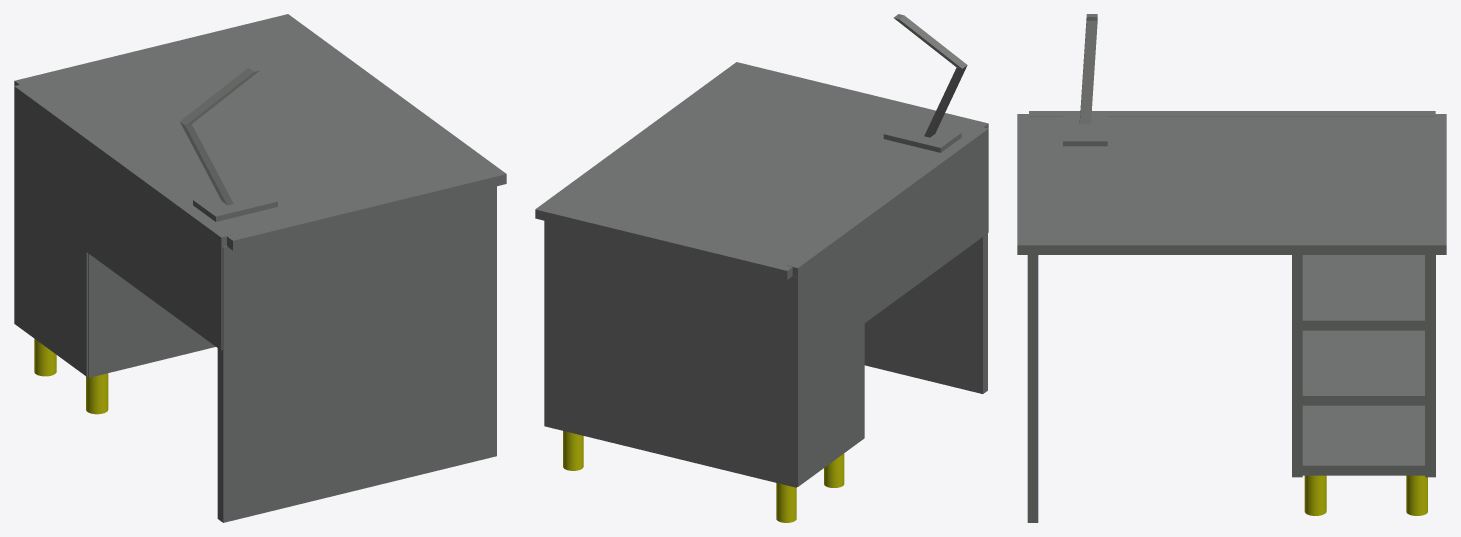
File: desk.obj
3 renders of one model, left to right at view 1: azimuth 30°, elevation 25°; view 2: azimuth 150°, elevation 25°; view 3: azimuth 270°, elevation 25°, orthographic. The views are drawn at different scales.
Parts seen in each view (by area): view 1: Cylinder.001, Cube; view 2: Cylinder.001, Cube; view 3: Cylinder.001, Cube.
Part boxes in pixels (x1,y1,x2,y2): Cylinder.001: (14,14,506,522); Cube: (180,66,277,221); Cylinder.001: (535,62,988,522); Cube: (883,14,967,152); Cylinder.001: (1017,111,1446,522); Cube: (1063,14,1107,146).
Size of what is drawn, in the model's own units: 151 by 209 by 200.
